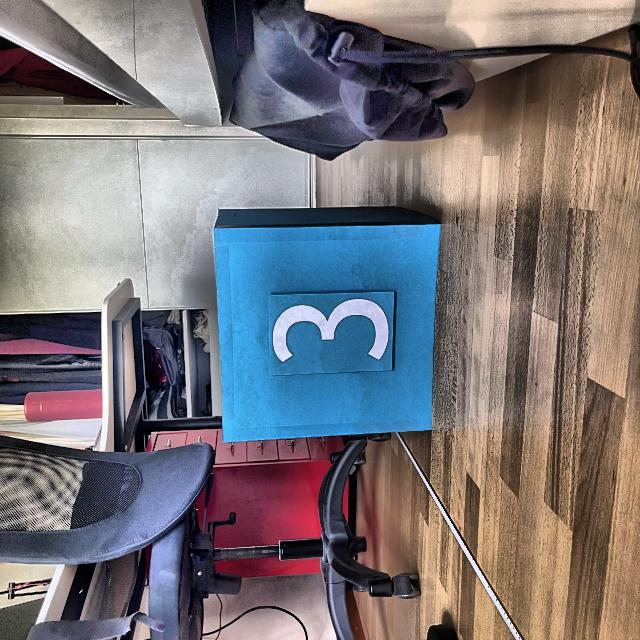blue box: (215, 206, 440, 444)
three: (272, 296, 392, 367)
